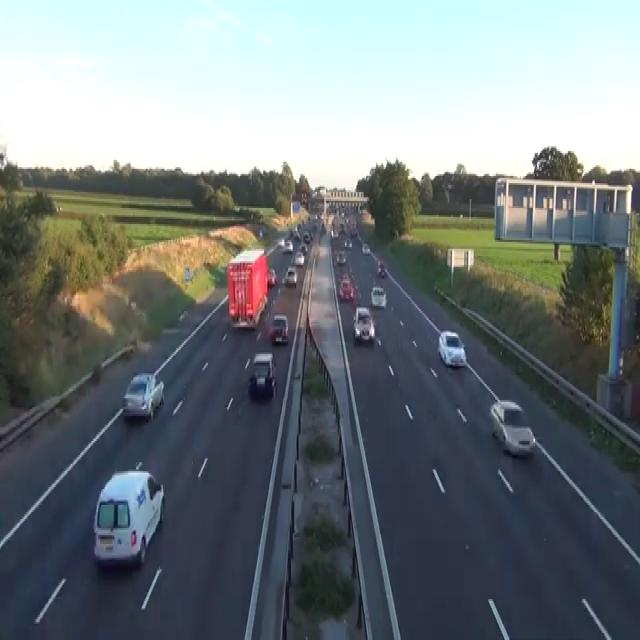Car: (93, 461, 164, 567), (489, 398, 536, 457), (122, 372, 164, 422), (248, 352, 277, 398), (437, 329, 466, 366), (353, 306, 375, 341), (268, 313, 288, 343), (370, 284, 386, 308), (338, 279, 355, 301), (283, 265, 297, 286), (91, 361, 103, 380), (267, 267, 277, 286), (122, 343, 134, 356), (282, 238, 293, 252), (377, 262, 386, 278), (127, 294, 136, 310), (336, 251, 346, 265), (294, 251, 304, 265), (302, 229, 312, 242), (0, 151, 7, 169), (349, 222, 357, 235), (178, 309, 187, 320), (362, 242, 370, 254), (349, 270, 356, 283), (53, 201, 62, 211), (344, 238, 352, 249), (300, 192, 307, 204), (330, 228, 338, 238), (293, 229, 300, 240), (277, 237, 284, 247), (300, 242, 307, 252), (129, 299, 136, 309), (258, 228, 263, 238), (307, 213, 311, 220)
Truck: (225, 247, 268, 329)
